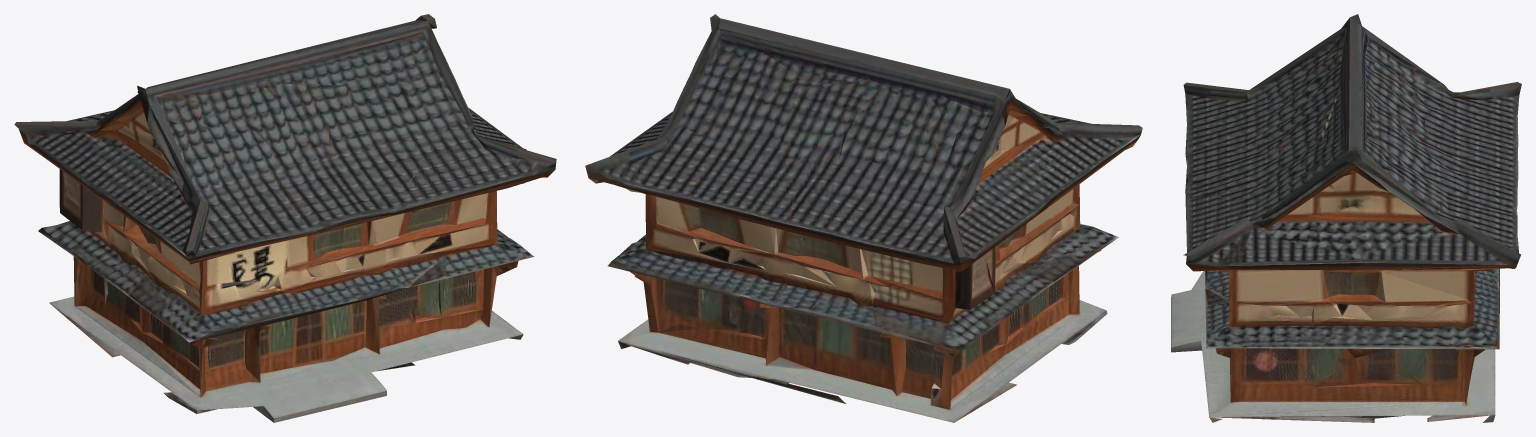
Rendered from machiya.glb.
3 views of the same model, side by side, from view 1: azimuth 30°, elevation 25°; view 2: azimuth 150°, elevation 25°; view 3: azimuth 270°, elevation 25° (orthographic). The views are drawn at different scales.
Size of the model in its own units: 1.89 by 1.35 by 1.61.
Materials: 1 (1 with a texture image).
